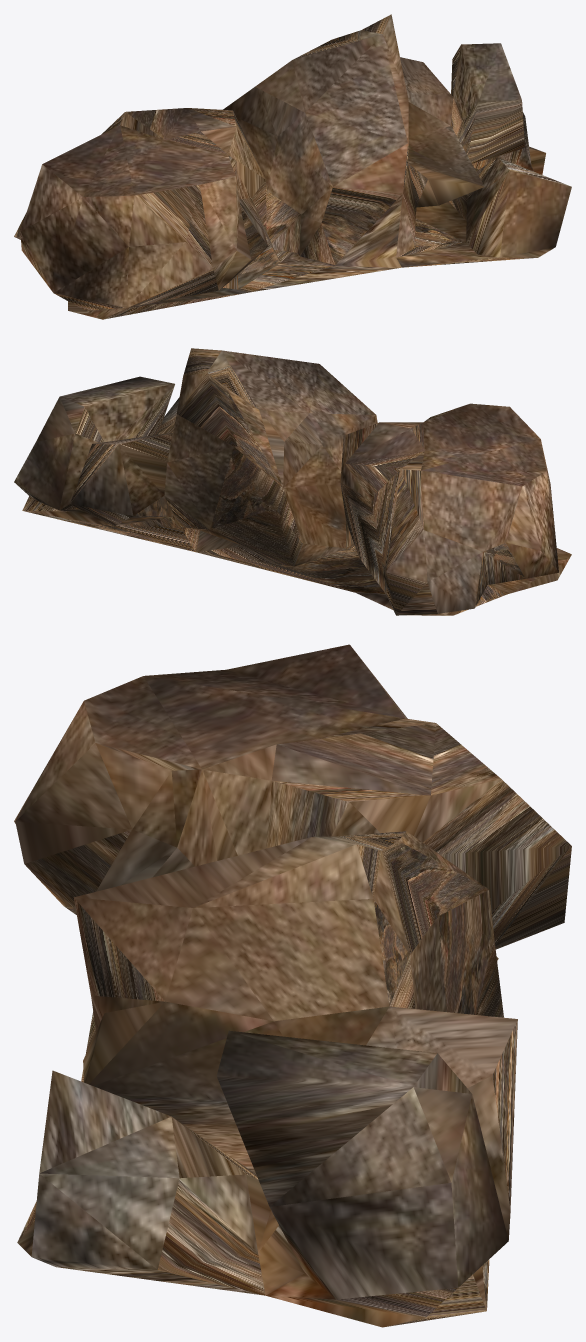
File: rock_boulder_01_lod1.obj
3 renders of one model, top to bottom at view 1: azimuth 30°, elevation 25°; view 2: azimuth 150°, elevation 25°; view 3: azimuth 270°, elevation 25°, orthographic. The views are drawn at different scales.
Visible parts, largest first — view 1: rock_boulder_01_lod1; view 2: rock_boulder_01_lod1; view 3: rock_boulder_01_lod1.
Boxes of the visible parts, x1,y1,x2,y2 form: rock_boulder_01_lod1: [14, 14, 571, 319]; rock_boulder_01_lod1: [14, 348, 571, 615]; rock_boulder_01_lod1: [14, 644, 571, 1327].
Size of the model in its own units: 2.51 by 0.8606 by 1.23.
1 material, 1 textured.
